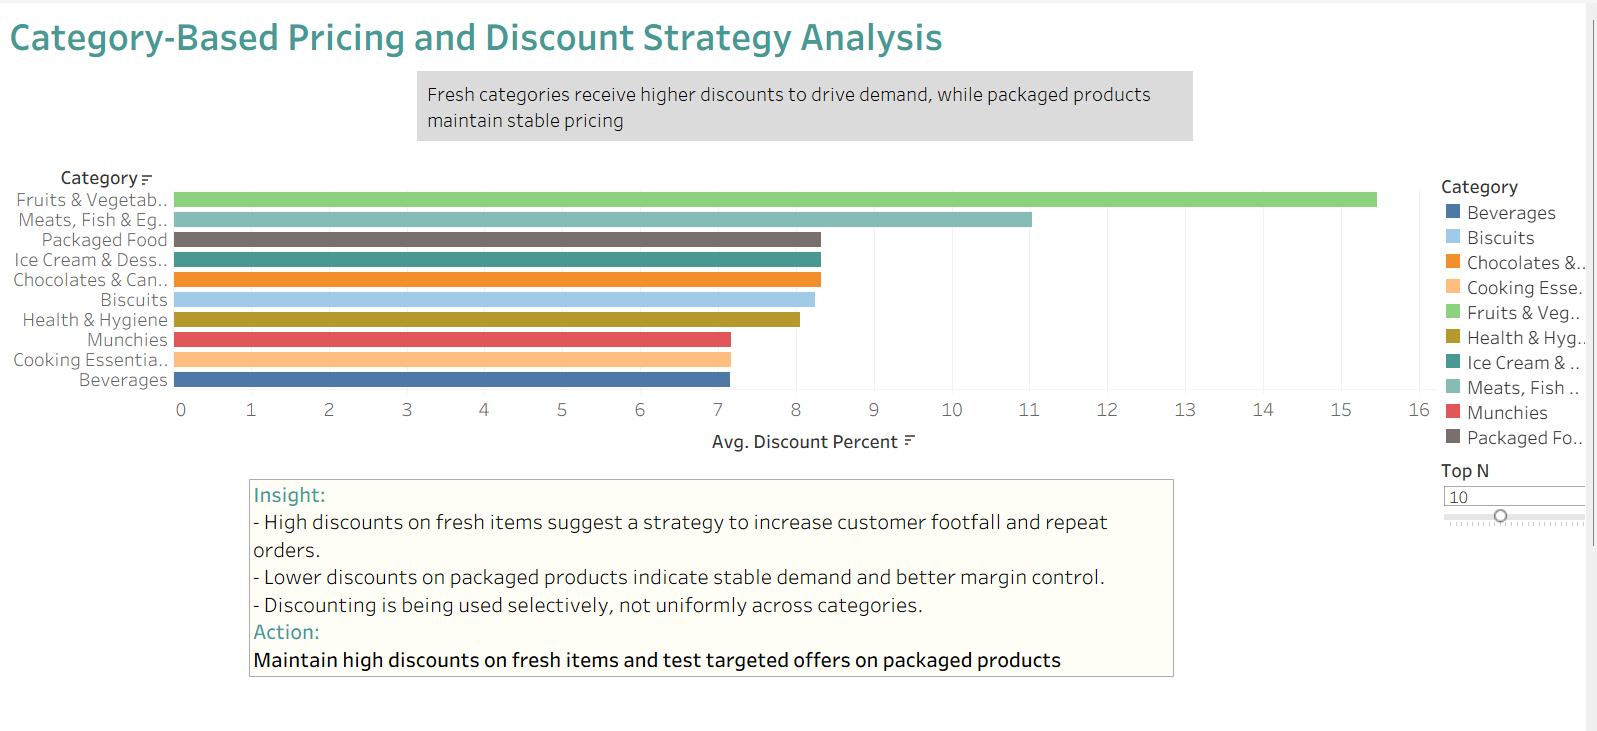

The page's visual inventory and layout, read from the dashboard file:
{"tool":"tableau","page":{"name":"Dashboard 2","canvas":[1000,1000],"units":"permille","ordinal":1},"visuals":[{"type":"text","box":[5,10.7,890.3,92.4]},{"type":"legend","title":"Sheet 5","param":"[federated.0m5cgn01dddmoq1el1z6h03l7zhx].[none:Category:nk]","box":[895.3,10.7,99.8,514.7]},{"type":"worksheet","title":"Sheet 7","mark":"Automatic","rows":["quantity"],"cols":["Discount Percent (bin)"],"box":[5,103.1,445.1,451.1]},{"type":"worksheet","title":"Sheet 5","mark":"Automatic","rows":["discountedSellingPrice"],"cols":["mrp"],"box":[450.1,103.1,445.1,451.1]},{"type":"parameter","param":"[Parameters].[Parameter 1]","box":[895.3,525.5,99.8,111.3]},{"type":"worksheet","title":"Sheet 6","mark":"Automatic","rows":["Category"],"cols":["discountPercent"],"box":[5,554.2,890.3,435.1]}]}

Visuals, with their boxes on the dashboard's canvas, which has no fixed pixel size, in thousandths of its width and height (x1, y1, x2, y2). These are canvas units, not pixel positions in the 1597x731 screenshot, which may show the page scaled, cropped or inside an application window:
text: 5, 11, 895, 103
"Sheet 5" legend: 895, 11, 995, 525
"Sheet 7" worksheet: 5, 103, 450, 554
"Sheet 5" worksheet: 450, 103, 895, 554
parameter: 895, 526, 995, 637
"Sheet 6" worksheet: 5, 554, 895, 989
